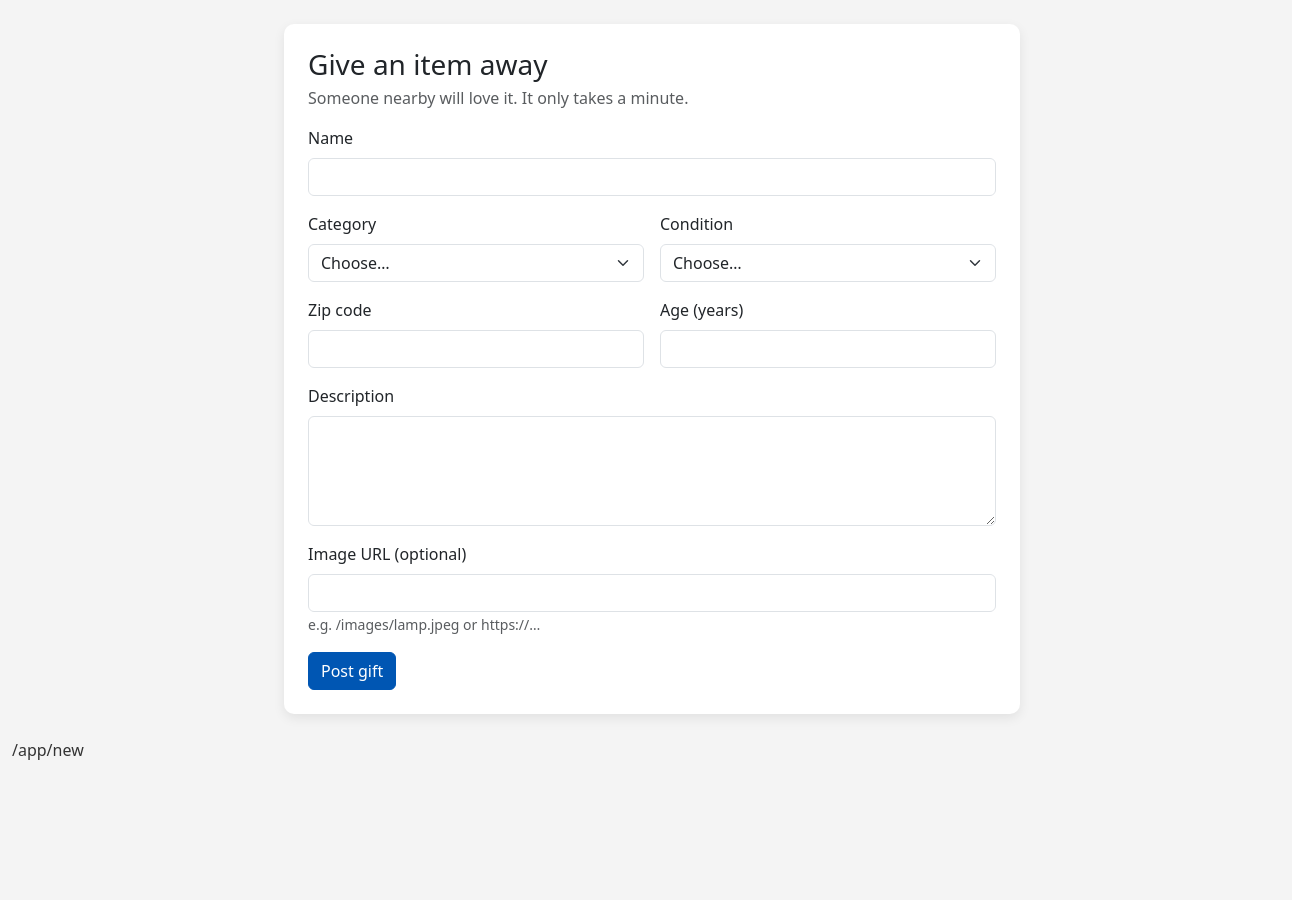
<NewGiftPage /> › maps server validation errors onto fields
Type "Reading Lamp" into the field labelled "Name".
click(652, 177); type("Reading Lamp")  # box [308,158,996,196]
Select "Living" in the dropdown labelled "Category" at [476, 263], box [308,244,644,282]
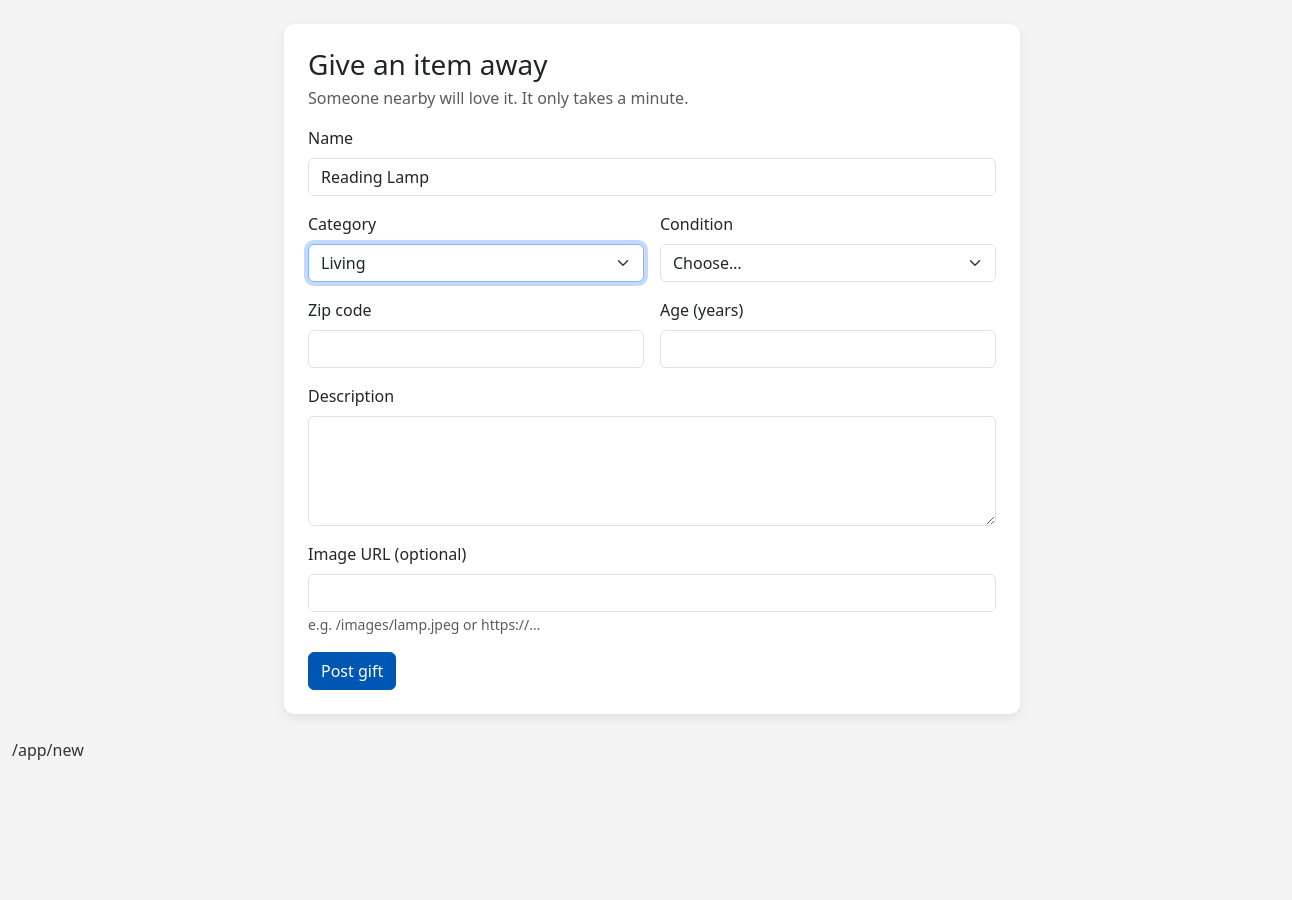
Select "Like New" in the dropdown labelled "Condition" at [828, 263], box [660,244,996,282]
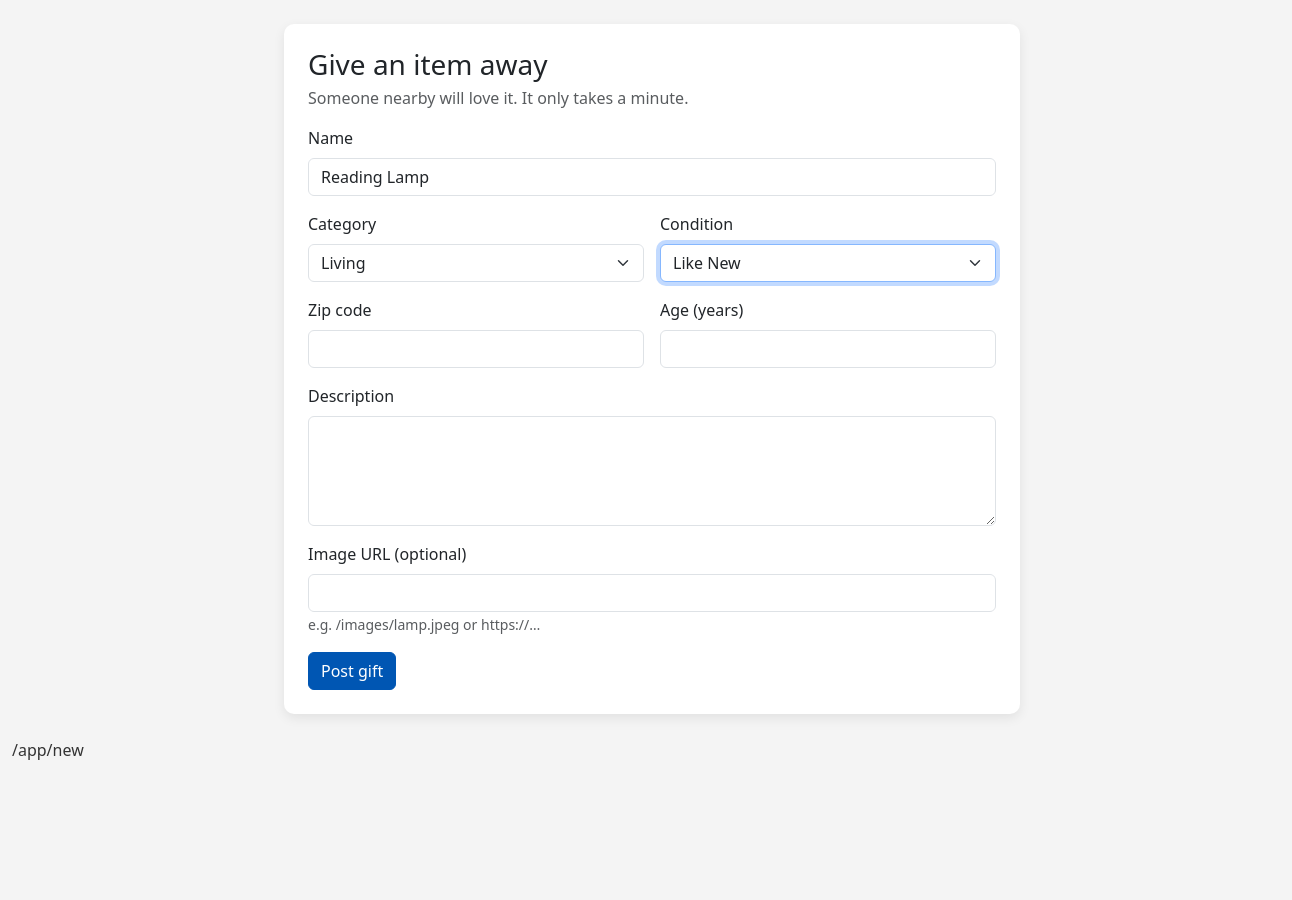
Type "94105" into the field labelled "Zip code".
click(476, 349); type("94105")  # box [308,330,644,368]
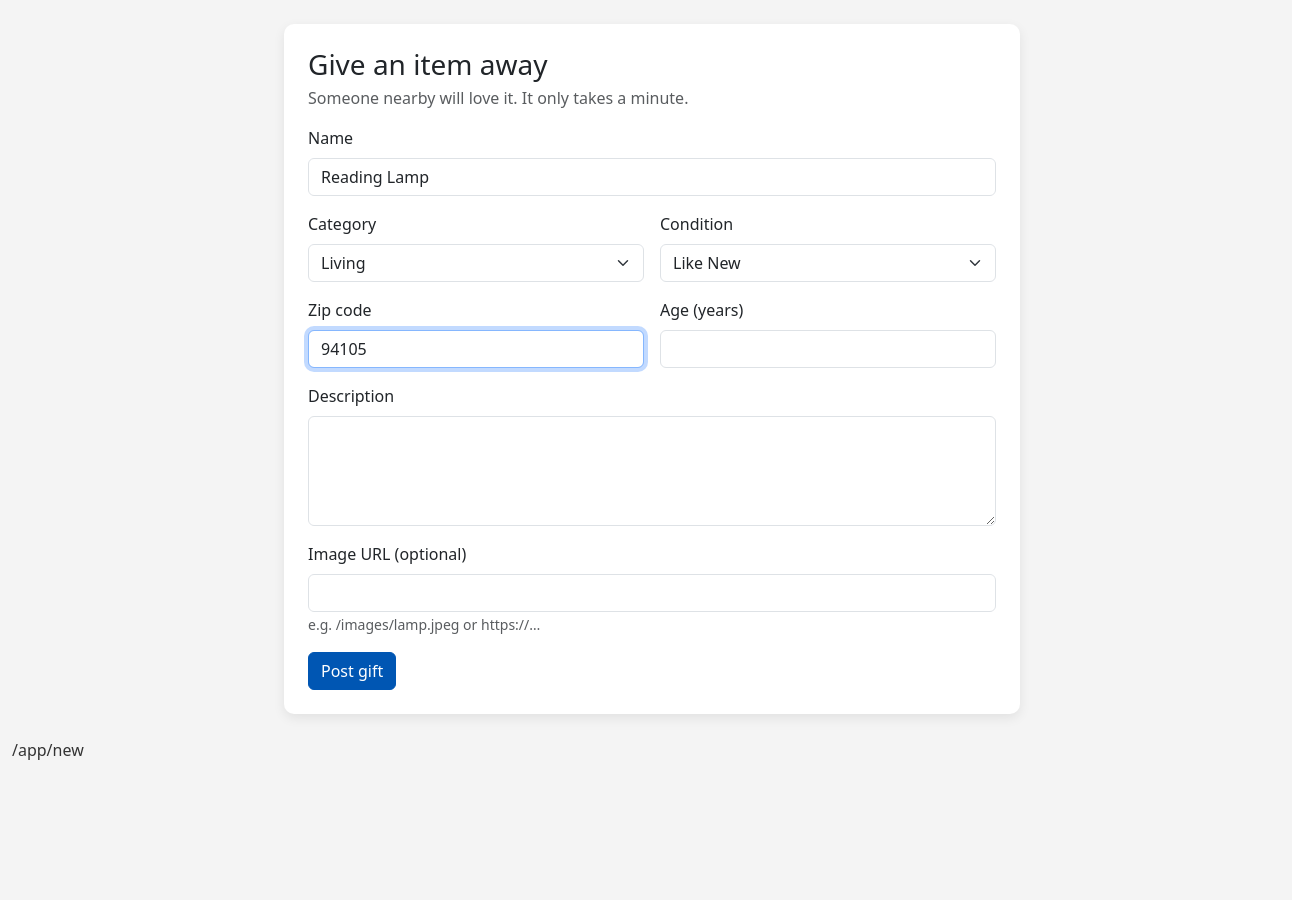
Type "2" into the number field labelled "Age (years)".
click(828, 349); type("2")  # box [660,330,996,368]
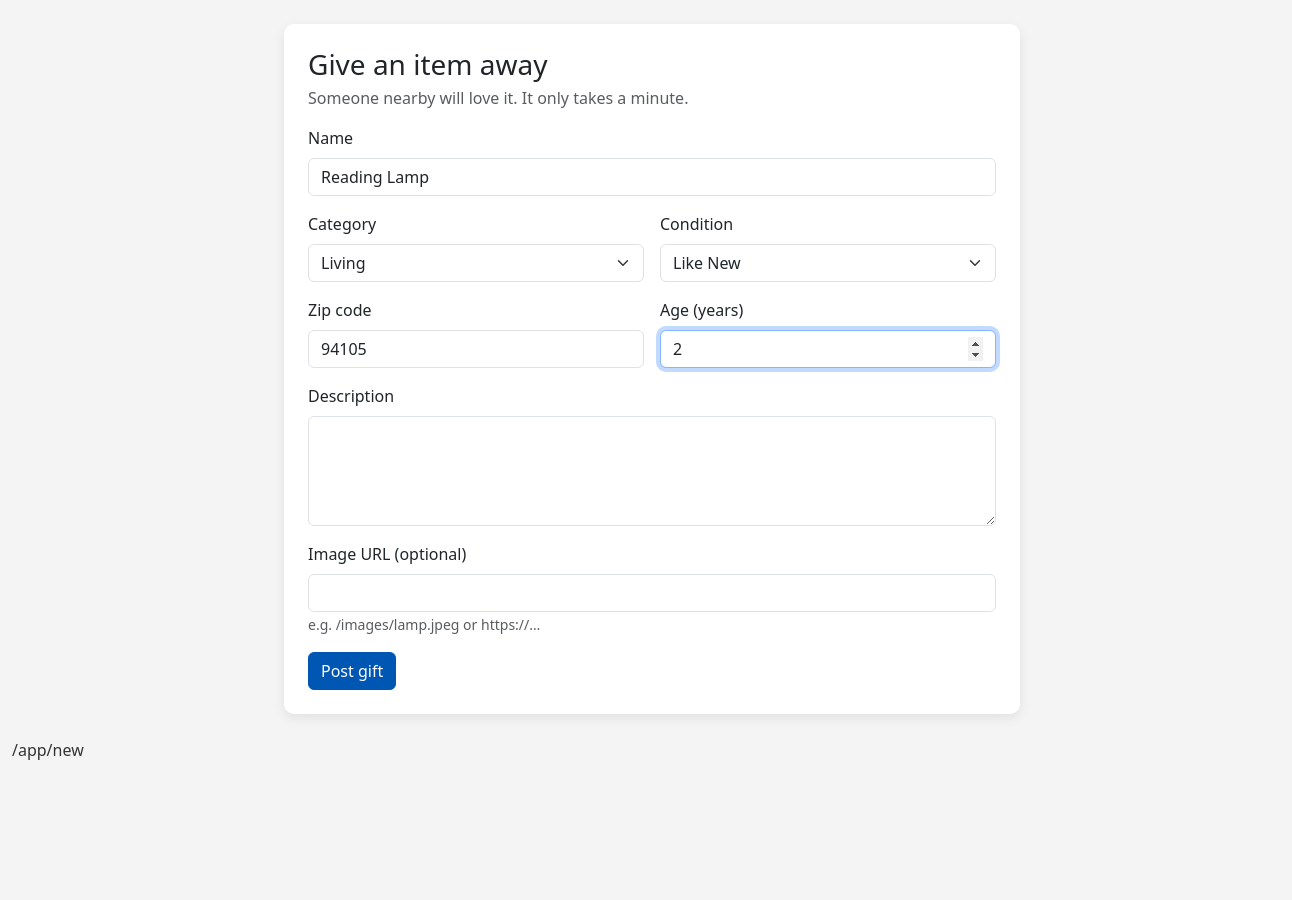
Type "Warm light." into the text box labelled "Description".
click(652, 471); type("Warm light.")  # box [308,416,996,526]
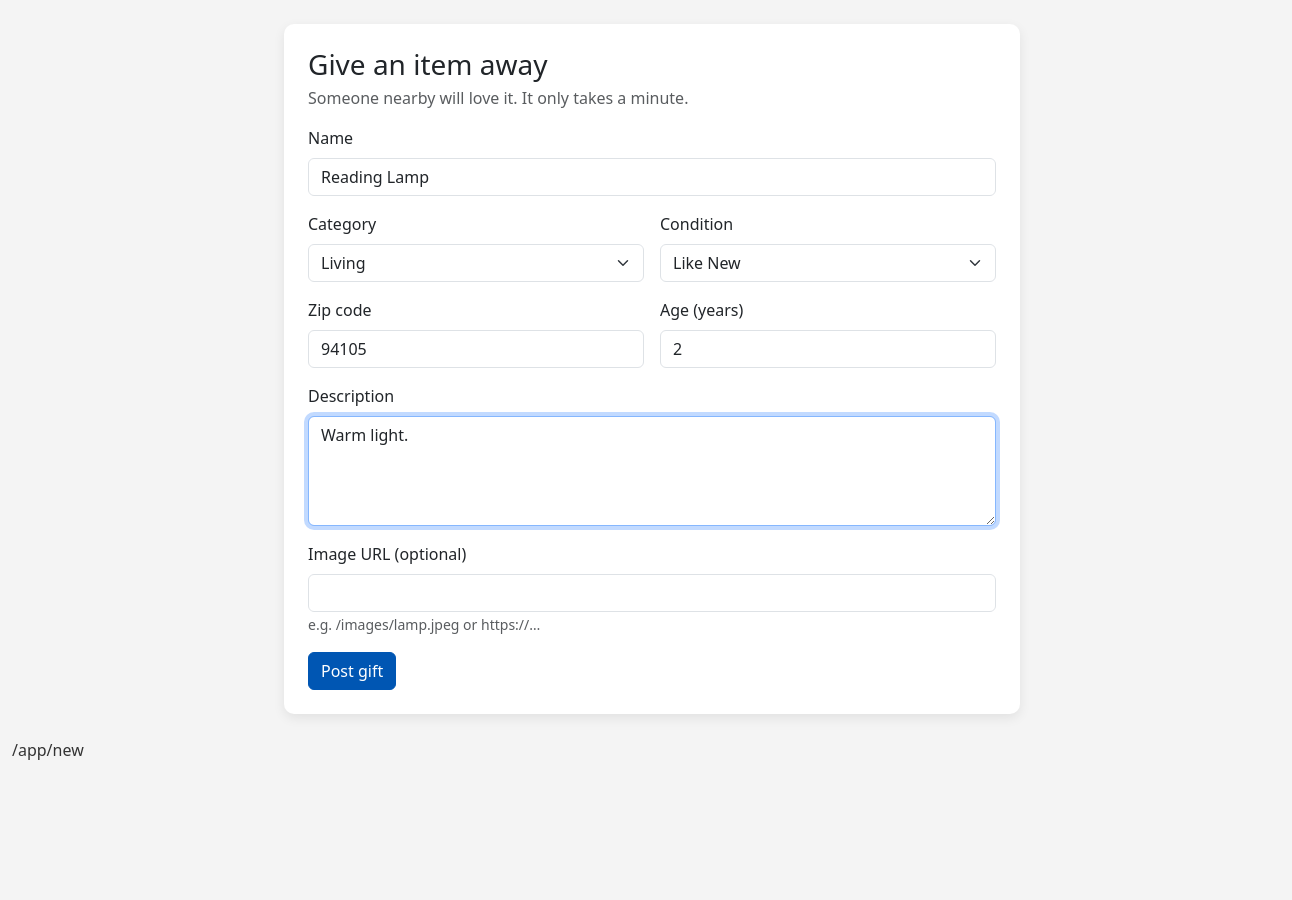
Click the button "Post gift".
click(352, 671)  # box [308,652,396,690]
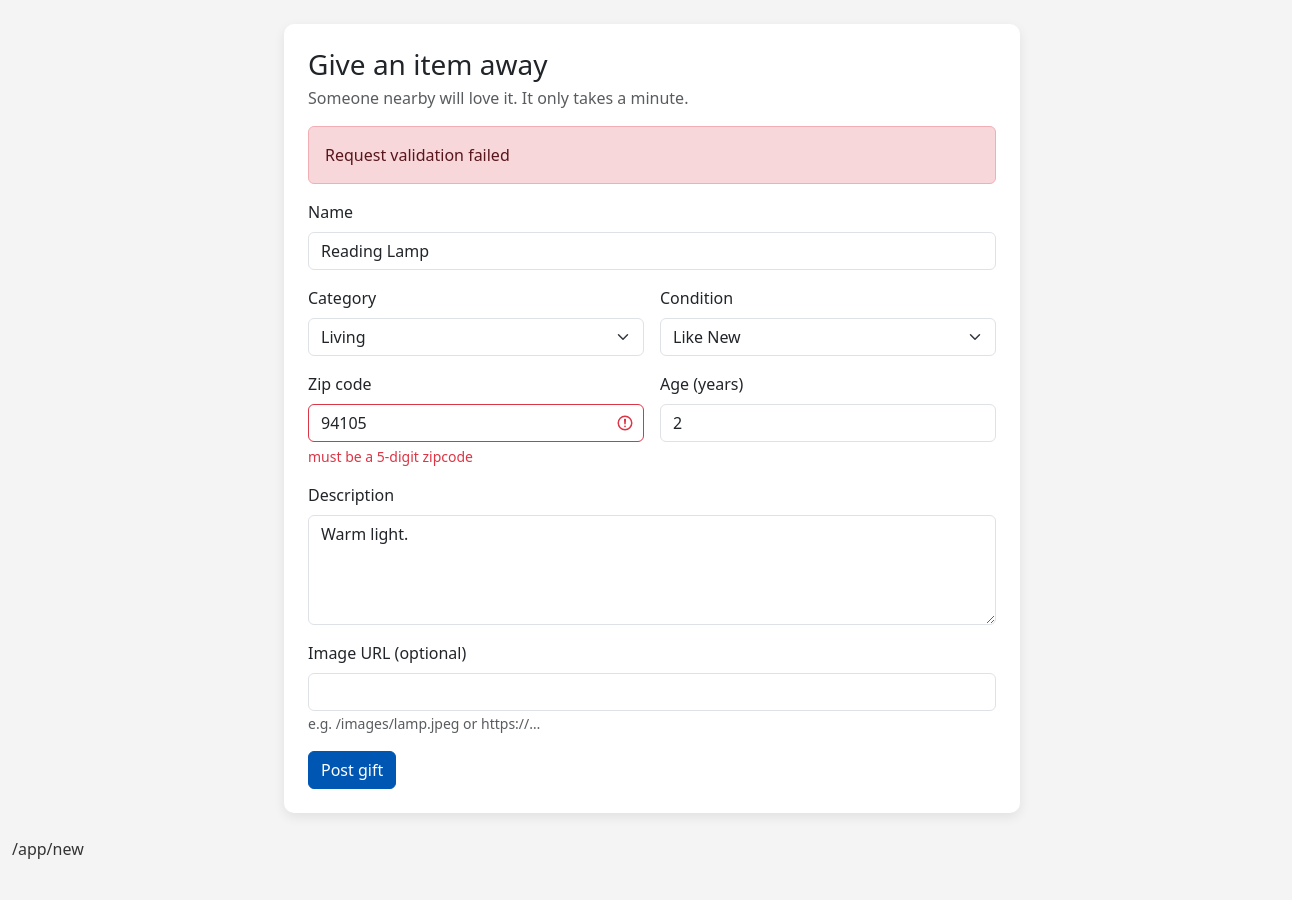
Expected: the text "must be a 5-digit zipcode" is shown, [308,447,473,466]
Expected: the message reads "Request validation failed", [325,144,510,166]
